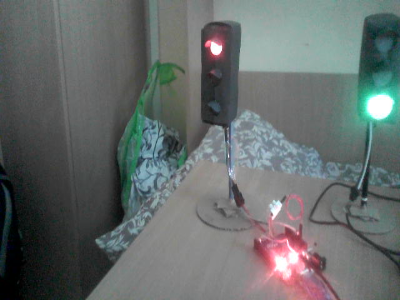trafficlight_green: (360, 16, 400, 122)
trafficlight_red: (202, 23, 234, 124)
